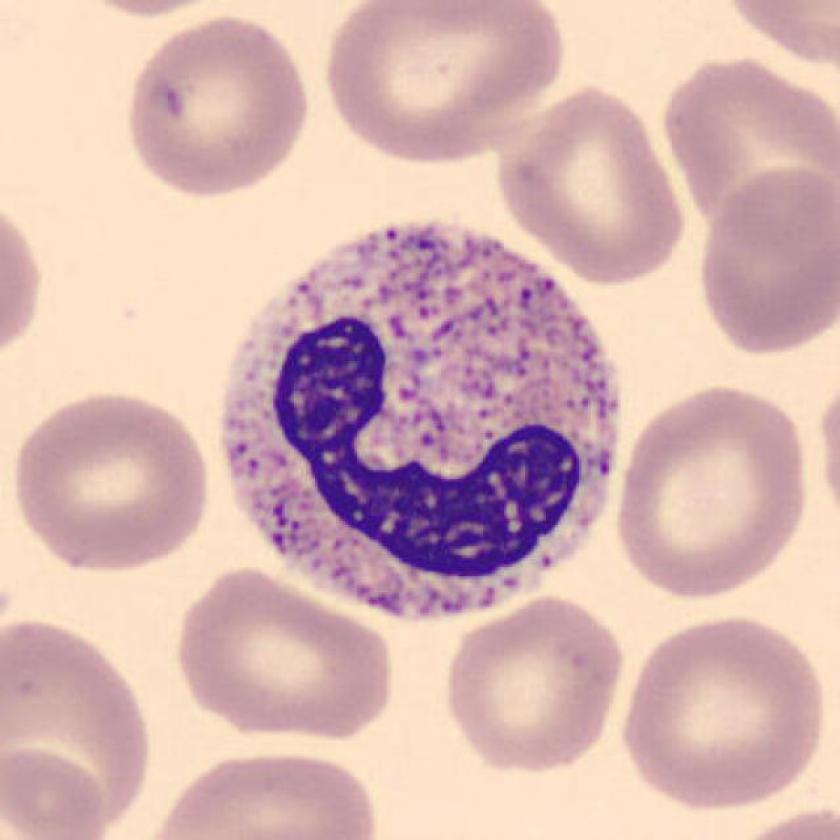neutrophil: (221, 226, 618, 617)
